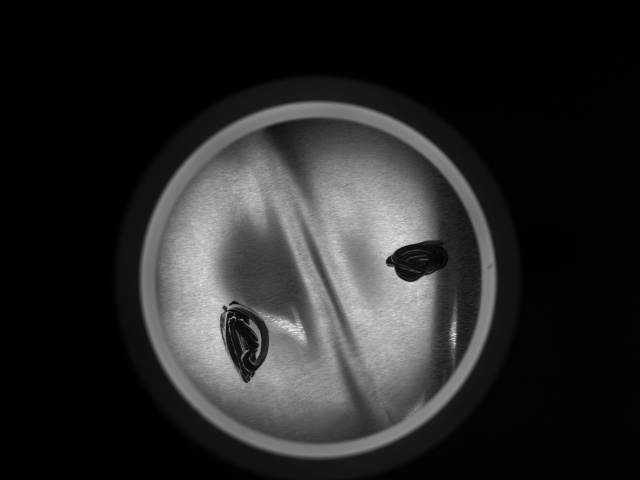zang_wu: (218, 299, 273, 383), (382, 236, 452, 285)
zhe_zhou: (203, 147, 439, 411)
